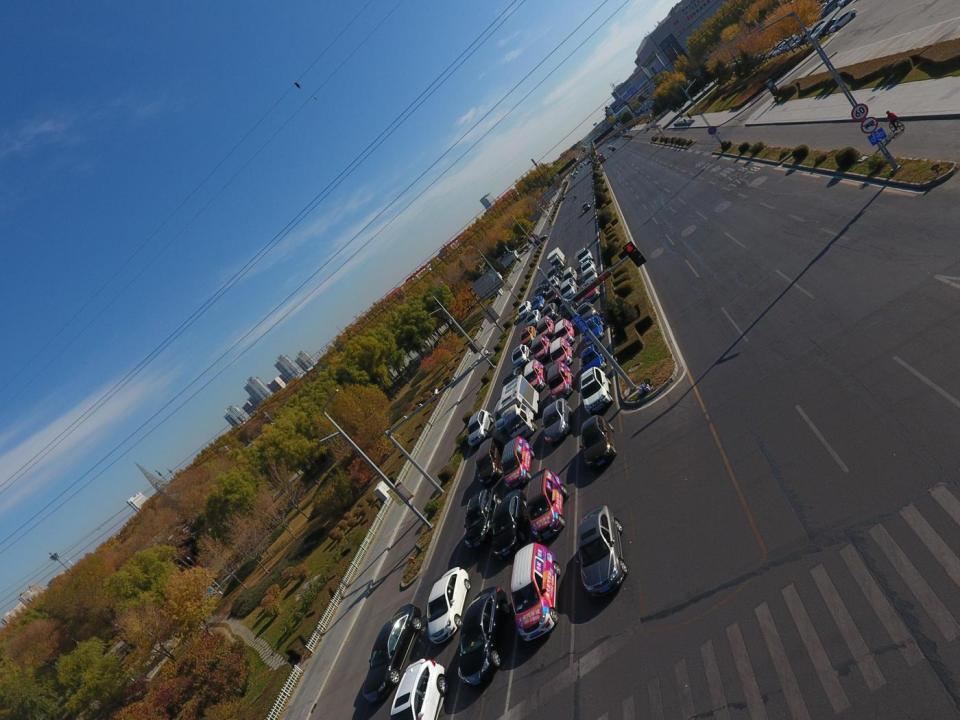car: (363, 604, 422, 704), (458, 588, 510, 688), (578, 505, 626, 596), (388, 659, 447, 720), (428, 567, 472, 645), (492, 489, 530, 559), (464, 486, 501, 549), (581, 414, 618, 470), (581, 367, 615, 413), (542, 398, 572, 445), (477, 437, 506, 485), (466, 408, 494, 448), (501, 367, 532, 395), (579, 344, 607, 373), (829, 7, 858, 33), (582, 315, 606, 343), (495, 396, 513, 432), (809, 21, 834, 41), (576, 301, 598, 323), (805, 20, 827, 42), (511, 345, 531, 367), (560, 298, 578, 321), (520, 326, 538, 348), (583, 280, 601, 302), (561, 278, 578, 300), (819, 19, 839, 37), (792, 29, 810, 48), (780, 36, 798, 54), (542, 302, 559, 321), (817, 1, 836, 18), (788, 34, 806, 51), (797, 29, 816, 45), (544, 288, 561, 305), (526, 310, 542, 328), (518, 300, 534, 318), (576, 246, 594, 262), (778, 38, 794, 55), (546, 264, 562, 280), (774, 40, 790, 56), (768, 42, 784, 58), (584, 270, 599, 286), (582, 260, 595, 276), (532, 297, 544, 312), (547, 276, 562, 288), (533, 234, 548, 246), (535, 284, 546, 297), (582, 202, 591, 213), (560, 195, 566, 201), (572, 172, 578, 176), (612, 146, 616, 152), (608, 144, 612, 150), (572, 175, 577, 179), (607, 144, 610, 148), (579, 165, 583, 168), (583, 161, 586, 165), (578, 162, 581, 165), (576, 168, 578, 171)
truck: (498, 374, 541, 441), (546, 247, 566, 269), (598, 153, 606, 162)
van: (511, 542, 561, 642), (527, 468, 567, 543), (500, 436, 535, 490), (546, 360, 574, 400), (523, 358, 547, 394), (550, 337, 575, 367), (531, 333, 552, 362), (554, 318, 575, 345), (537, 315, 555, 339), (821, 0, 840, 16), (564, 267, 580, 282)
